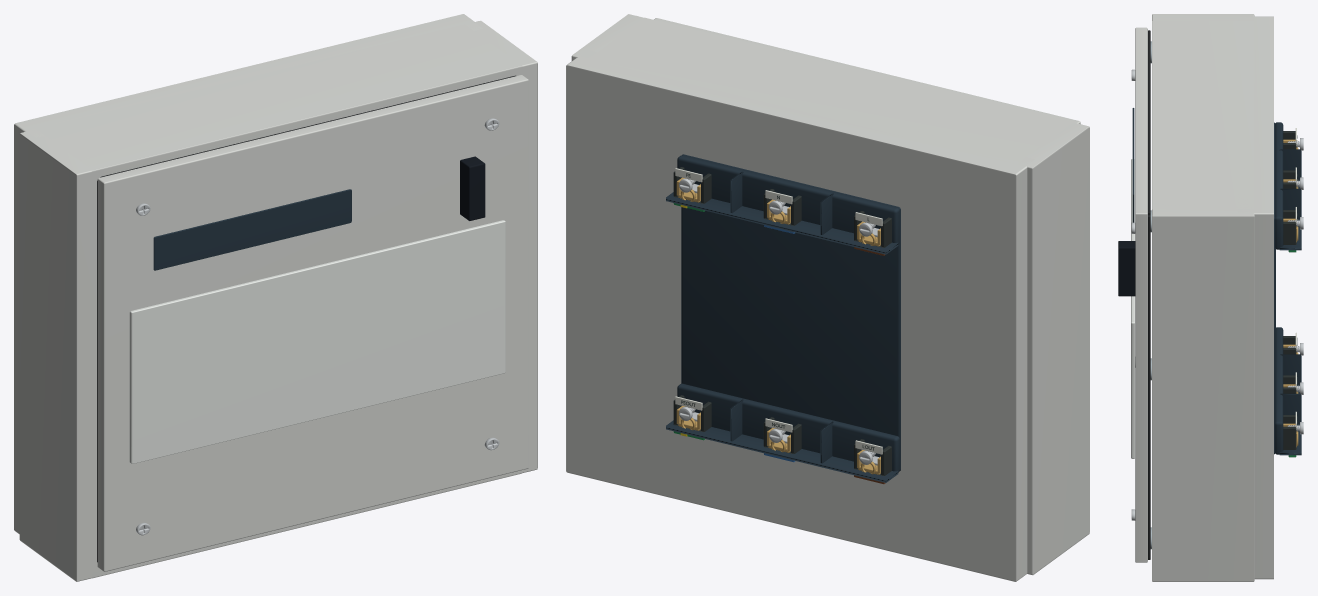
The model's file is panel_domestic-enclosure.glb.
3 renders of one model, left to right at view 1: azimuth 30°, elevation 25°; view 2: azimuth 150°, elevation 25°; view 3: azimuth 270°, elevation 25°, orthographic. The views are drawn at different scales.
Visible parts, largest first — view 1: part:cover, part:body · Original 7dbee62c, detail:enclosure-gasket-and-fixings · Detail rubber gasket; view 2: part:body · Original 7dbee62c, part:terminals.001 · Original a463fd81, part:cover; view 3: part:body · Original 7dbee62c, part:cover, part:terminals.001 · Original a463fd81, detail:enclosure-gasket-and-fixings · Detail rubber gasket, detail:terminal-clamp:PEOUT · Detail moulded engineering pol, detail:terminal-clamp:PE · Detail moulded engineering polyme.
Part boxes in pixels (left/top/right/bottom): part:cover: left=97, top=75, right=528, bottom=571; part:body · Original 7dbee62c: left=14, top=14, right=537, bottom=581; detail:enclosure-gasket-and-fixings · Detail rubber gasket: left=97, top=75, right=515, bottom=562; part:body · Original 7dbee62c: left=566, top=14, right=1089, bottom=581; part:terminals.001 · Original a463fd81: left=666, top=154, right=900, bottom=482; part:cover: left=654, top=18, right=1080, bottom=123; part:body · Original 7dbee62c: left=1152, top=14, right=1273, bottom=581; part:cover: left=1118, top=27, right=1147, bottom=562; part:terminals.001 · Original a463fd81: left=1274, top=122, right=1301, bottom=455; detail:enclosure-gasket-and-fixings · Detail rubber gasket: left=1148, top=30, right=1150, bottom=559; detail:terminal-clamp:PEOUT · Detail moulded engineering pol: left=1283, top=415, right=1296, bottom=449; detail:terminal-clamp:PE · Detail moulded engineering polyme: left=1283, top=210, right=1296, bottom=244.
Size of the model in its own units: 1.97 by 1.66 by 0.7639.
